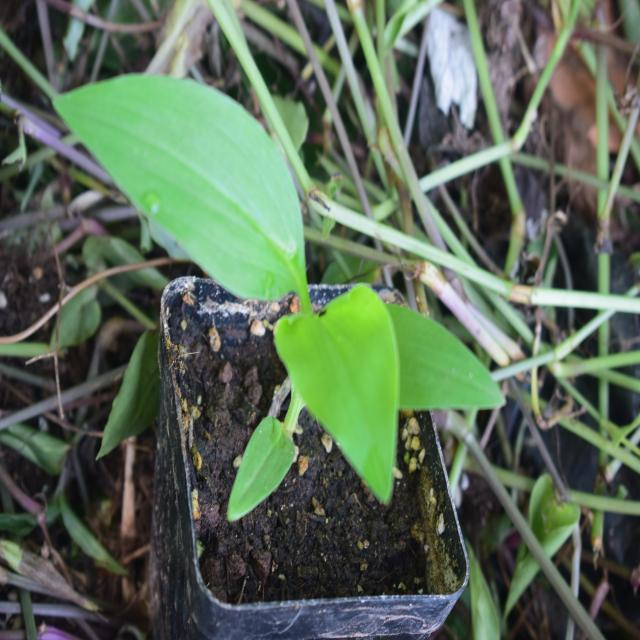Common Dayflower: (70, 55, 516, 521)
